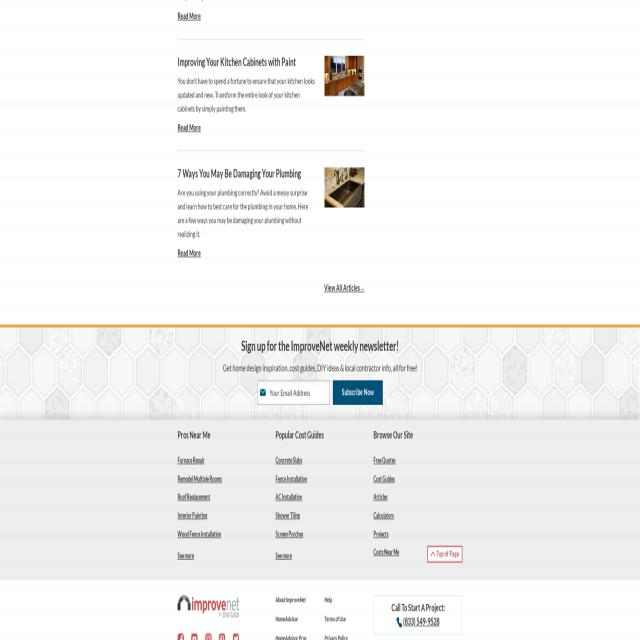button: (374, 596, 461, 636), (324, 55, 364, 97), (324, 167, 364, 208), (177, 595, 239, 617), (333, 380, 383, 406), (427, 547, 462, 564), (191, 633, 198, 640), (205, 633, 212, 640), (177, 633, 184, 640), (260, 389, 266, 396), (233, 633, 239, 640), (219, 633, 225, 640)
field: (257, 380, 330, 406)
